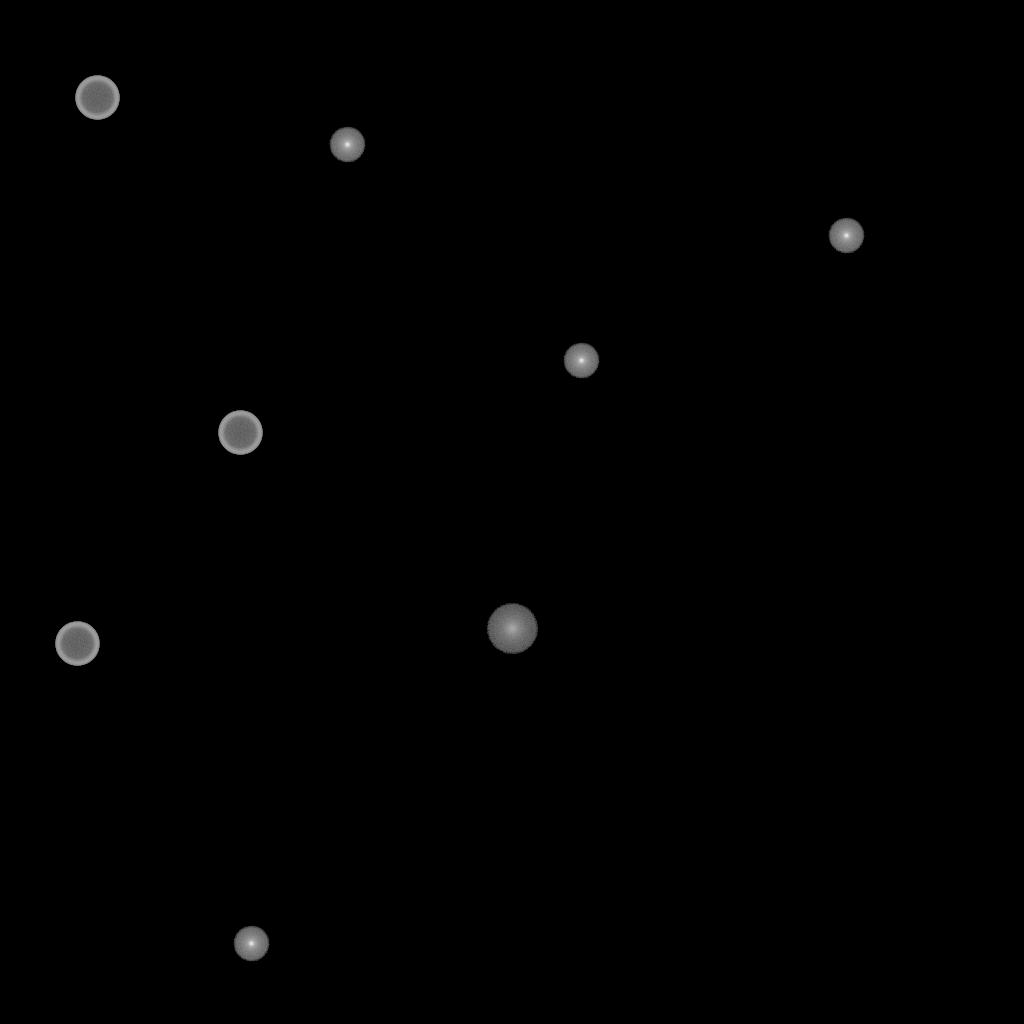depth:-70: (75, 76, 119, 120), (55, 622, 99, 666), (218, 411, 262, 455)
depth:0: (233, 926, 269, 962), (563, 343, 599, 379), (828, 218, 864, 254), (329, 127, 365, 163)
depth:20: (486, 604, 538, 654)
